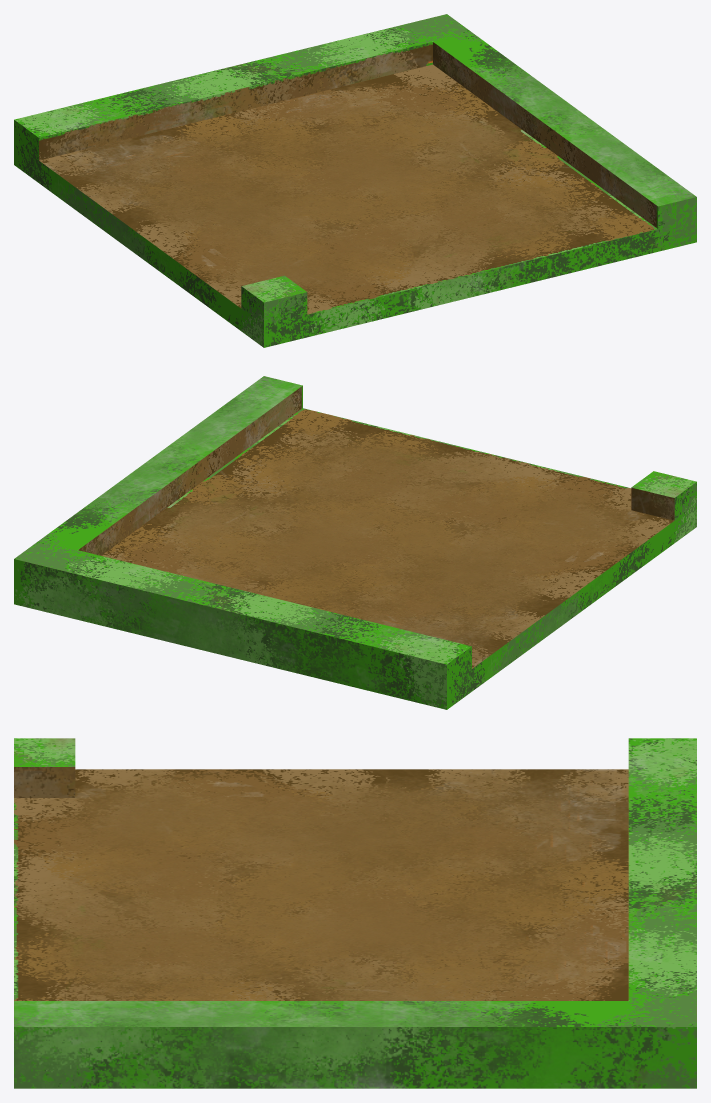
Rendered from Street3.fbx.
3 renders of one model, top to bottom at view 1: azimuth 30°, elevation 25°; view 2: azimuth 150°, elevation 25°; view 3: azimuth 270°, elevation 25°, orthographic. The views are drawn at different scales.
Visible parts, largest first — view 1: Street3; view 2: Street3; view 3: Street3.
Boxes of the visible parts, x1,y1,x2,y2 form: Street3: [14, 14, 696, 347]; Street3: [14, 376, 696, 709]; Street3: [14, 738, 696, 1088].
Size of the model in its own units: 200 by 20 by 200.
Materials: 1 (1 with a texture image).
